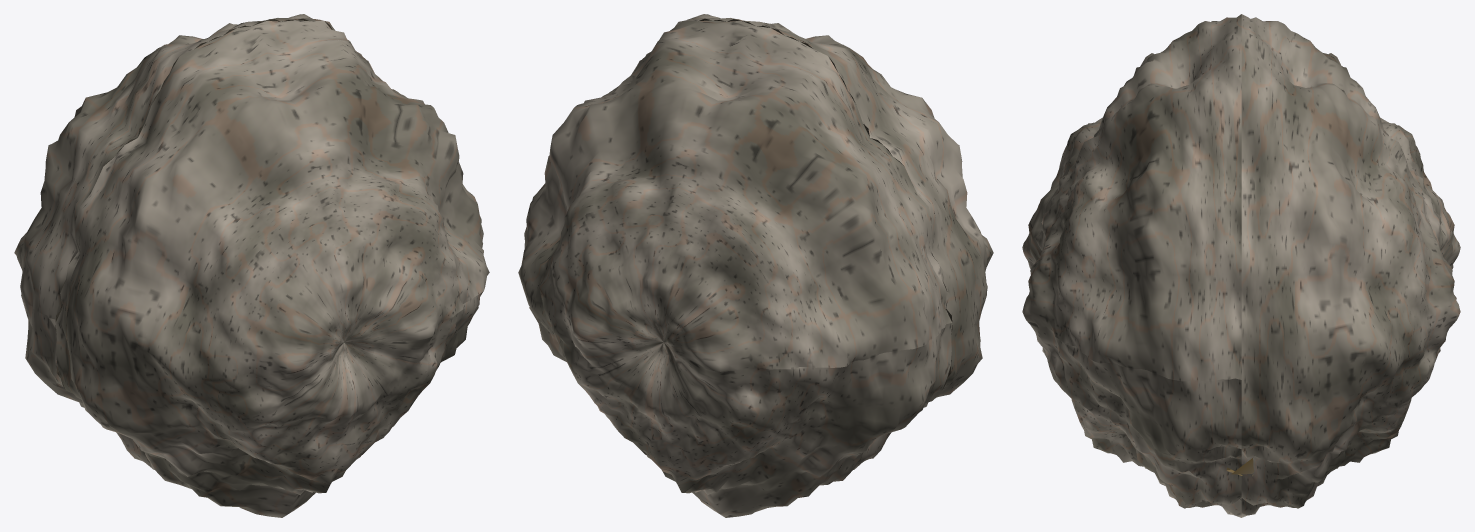
Rendered from honey-calcite-study-v2.glb.
The picture shows the model from 3 angles, left to right: view 1: azimuth 30°, elevation 25°; view 2: azimuth 150°, elevation 25°; view 3: azimuth 270°, elevation 25°; orthographic projection.
Parts seen in each view (by area): view 1: Closed_front, Closed_back; view 2: Closed_back, Closed_front; view 3: Closed_front, Closed_back.
Part boxes in pixels (left/top/right/bottom): Closed_front: left=55, top=20, right=489, bottom=517; Closed_back: left=14, top=14, right=383, bottom=469; Closed_back: left=518, top=20, right=952, bottom=517; Closed_front: left=613, top=14, right=993, bottom=469; Closed_front: left=1022, top=14, right=1241, bottom=517; Closed_back: left=1241, top=14, right=1460, bottom=517.
Bounding box in the file's own units: 3.02 × 3.48 × 2.86.
Materials: 8 (3 with a texture image).
